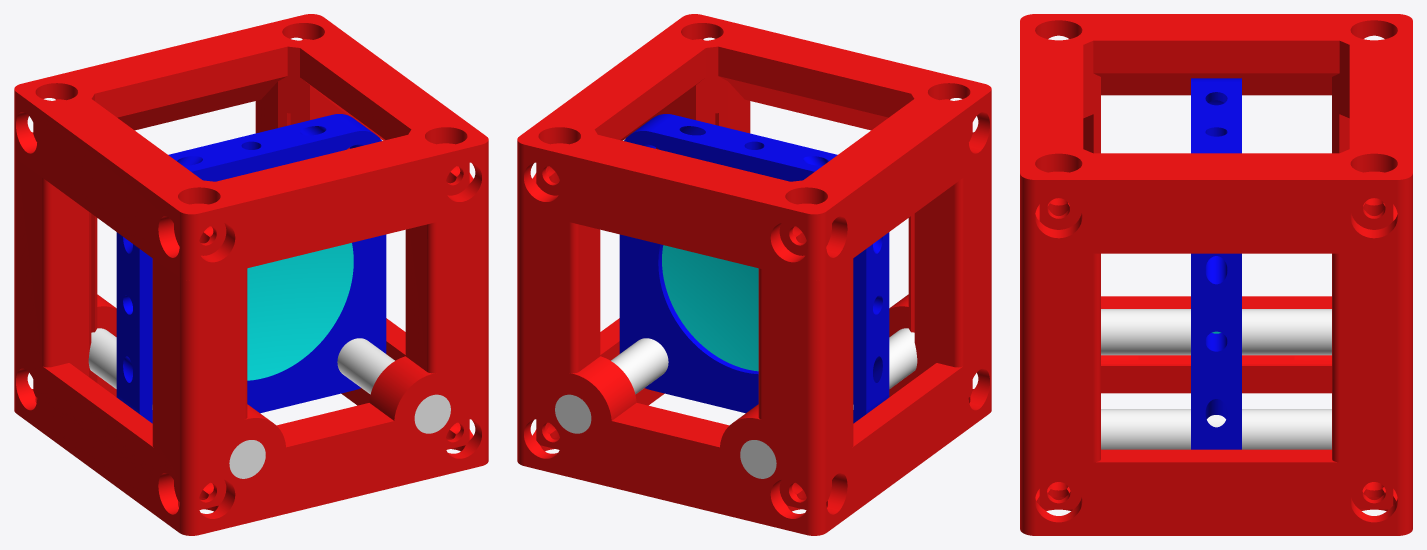
The model's file is Base Cube 1x1 (Concave Lense).fbx.
3 views of the same model, side by side, from view 1: azimuth 30°, elevation 25°; view 2: azimuth 150°, elevation 25°; view 3: azimuth 270°, elevation 25° (orthographic). The views are drawn at different scales.
Parts seen in each view (by area): view 1: Base Cube 1x1 (Concave Lense); view 2: Base Cube 1x1 (Concave Lense); view 3: Base Cube 1x1 (Concave Lense).
Part boxes in pixels (x1,y1,x2,y2): Base Cube 1x1 (Concave Lense): (14,14,488,535); Base Cube 1x1 (Concave Lense): (517,14,991,535); Base Cube 1x1 (Concave Lense): (1020,14,1412,535).
Size of the model in its own units: 4.98 by 4.98 by 4.98.
